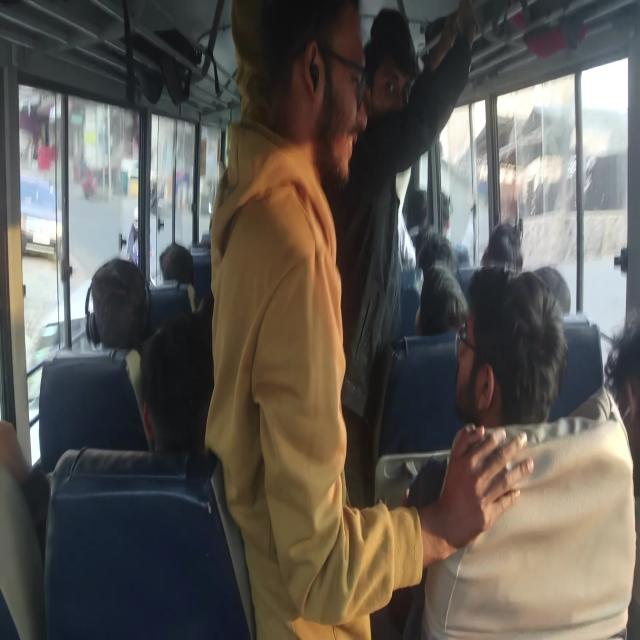person: (432, 312, 556, 422), (384, 48, 469, 202), (258, 13, 342, 162), (147, 348, 206, 451), (2, 374, 53, 487), (616, 320, 640, 462), (415, 179, 466, 229), (482, 218, 529, 272), (107, 262, 145, 324), (539, 261, 577, 315), (151, 224, 178, 280), (426, 264, 458, 309), (434, 218, 454, 264)
